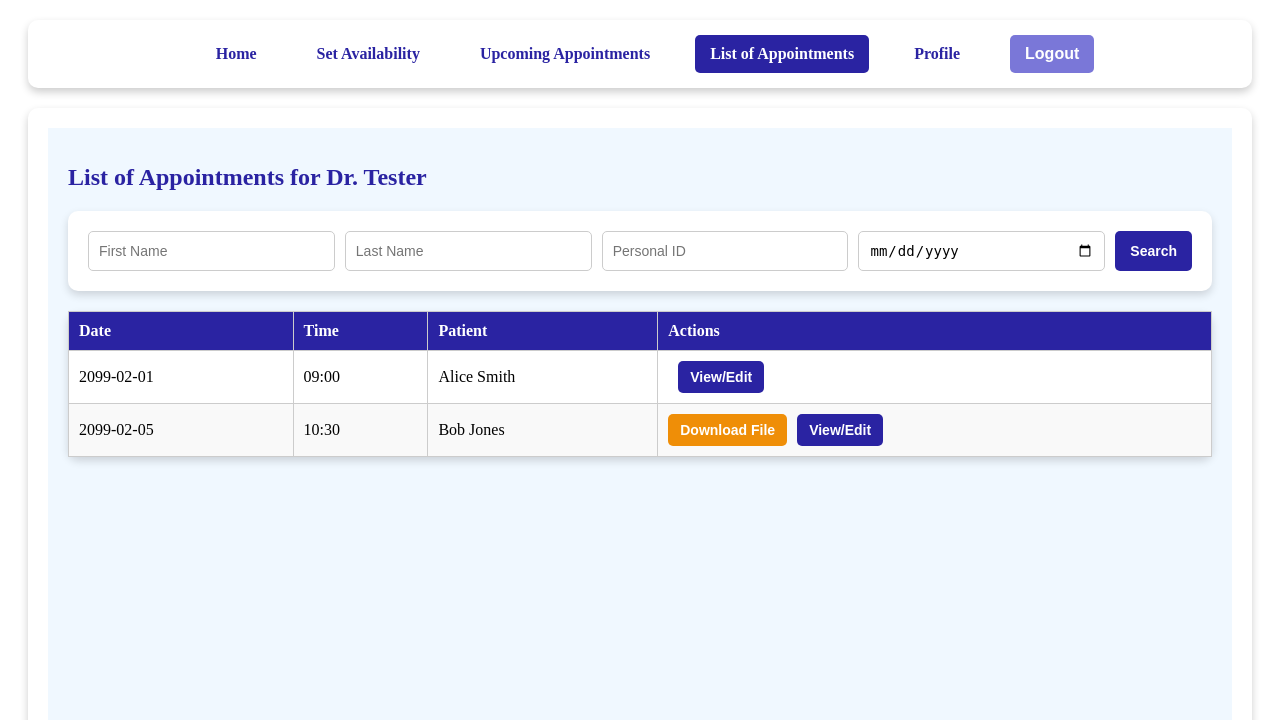
Test: List Of Appointments Page › opens the edit modal and pre-populates fields
Click the button "View/Edit" in the row of "2099-02-01": (721, 377) 678,361 -> 764,393
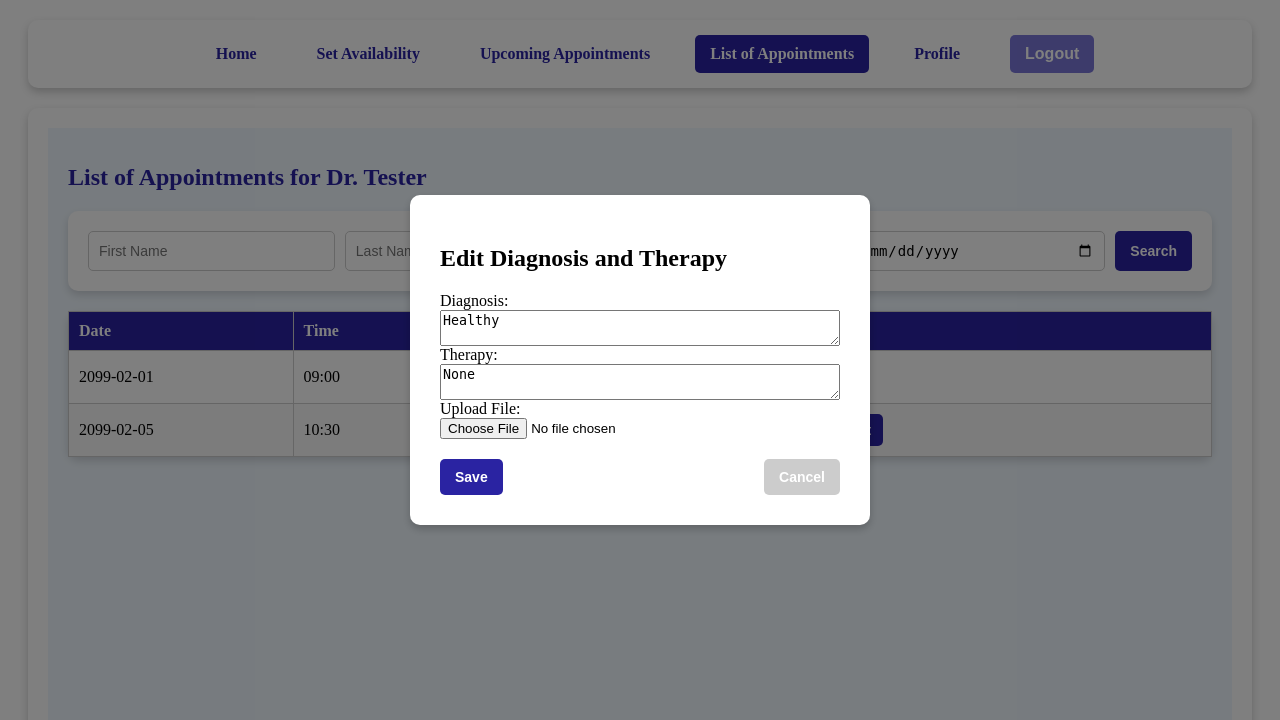
Now the element with class "modal-overlay" is shown
Now the text box with id "diagnosis" holds "Healthy", box 440,310 -> 840,346
Now the text box with id "therapy" holds "None", box 440,364 -> 840,400
Click the button with class "cancel-button": (802, 477) 764,459 -> 840,495
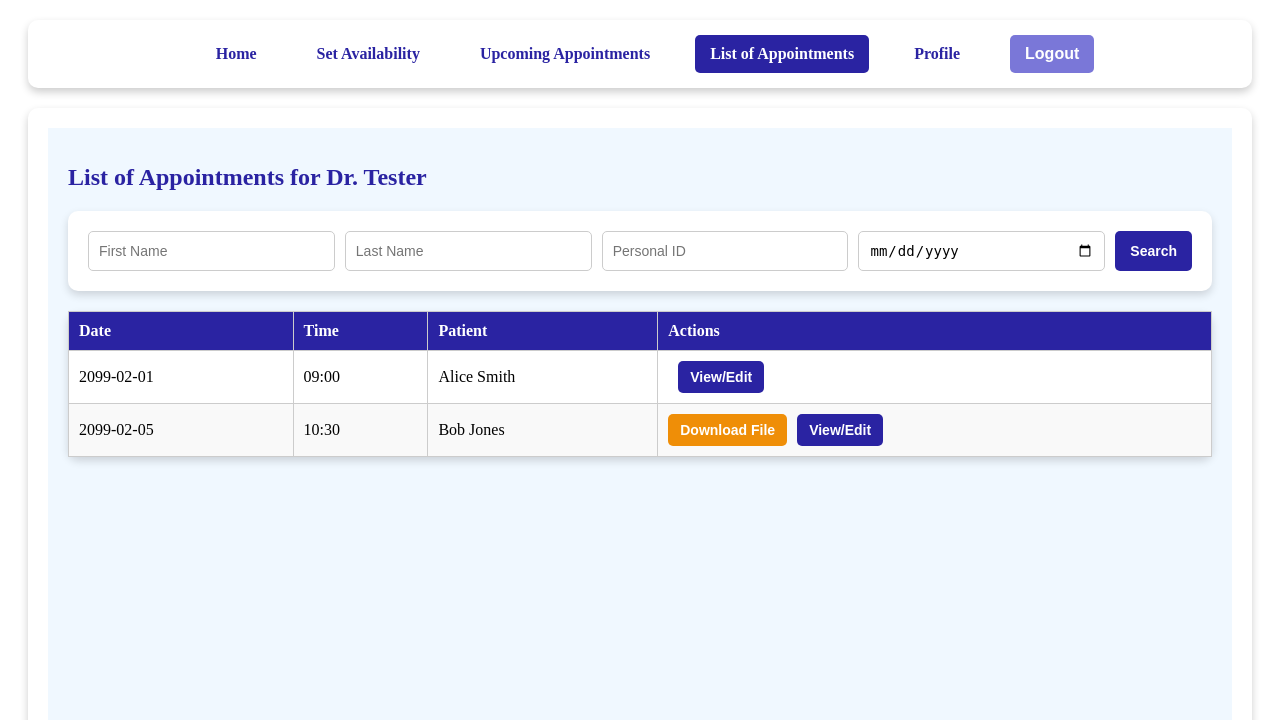
Now the element with class "modal-overlay" is gone
